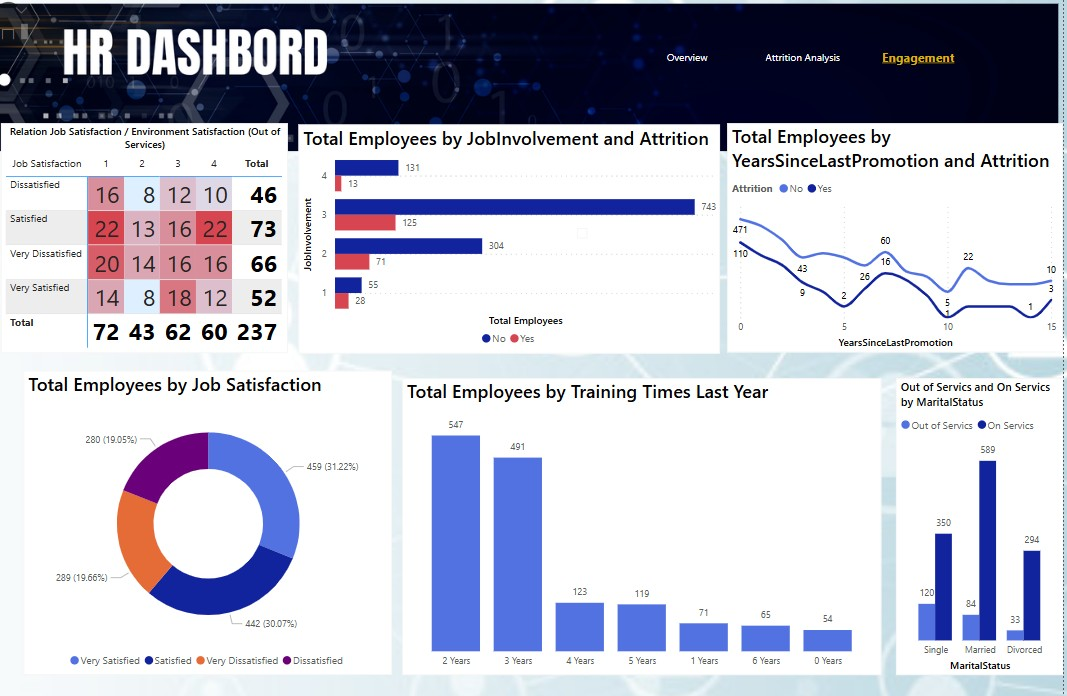

The page's visual inventory and layout, read from the dashboard file:
{"tool":"powerbi","page":{"name":"Engagement","canvas":[1280,850],"ordinal":2},"visuals":[{"type":"actionButton","box":[0,0,100,40],"z":0},{"type":"image","box":[0,0,1279.8,191.7],"z":1000},{"type":"pivotTable","title":"Relation Job Satisfaction / Environment Satisfaction (Out of Services)","fields":{"Rows":["HR Data.Job Satisfaction"],"Columns":["HR Data.EnvironmentSatisfaction"],"Values":["Measures Table.Out of Servics"]},"box":[12.2,151.1,342.2,274.4],"z":2000},{"type":"clusteredBarChart","fields":{"Y":["Measures Table.Total Employees"],"Category":["HR Data.JobInvolvement"],"Series":["HR Data.Attrition"]},"box":[366.7,152.2,503.3,273.3],"z":3000},{"type":"lineChart","fields":{"Category":["HR Data.YearsSinceLastPromotion"],"Y":["Measures Table.Total Employees"],"Series":["HR Data.Attrition"]},"box":[878.9,151.1,401.1,273.3],"z":4000},{"type":"columnChart","title":"Total Employees by Training Times Last Year","fields":{"Y":["Measures Table.Total Employees"],"Category":["HR Data.Training"]},"box":[491.1,455.6,572.2,354.4],"z":5000},{"type":"slicer","fields":{"Values":["HR Data.Attrition"]},"box":[0,0,49.2,55.7],"z":6000},{"type":"histogram7D0E580F1FEB4DDA901A6D8146EA6387","box":[700,275.6,12.2,12.2],"z":7000},{"type":"clusteredColumnChart","fields":{"Y":["Measures Table.Out of Servics","Measures Table.On Servics"],"Category":["HR Data.MaritalStatus"]},"box":[1080,455.6,200,354.4],"z":8000},{"type":"donutChart","fields":{"Y":["Measures Table.Total Employees"],"Category":["HR Data.Job Satisfaction"]},"box":[38.9,446.7,440,363.3],"z":9000},{"type":"pageNavigator","box":[766.7,45.6,405.6,50],"z":10000}]}

Visuals, with their boxes in screenshot pixels (x1, y1, x2, y2), scaled from the page's 1280x850 canvas onto the 1067x696 screenshot:
actionButton: (0,0,83,33)
image: (0,0,1066,157)
"Relation Job Satisfaction / Environment Satisfaction (Out of Services)" pivotTable: (10,124,295,348)
clusteredBarChart - Measures Table.Total Employees x HR Data.JobInvolvement: (306,125,725,348)
lineChart - HR Data.YearsSinceLastPromotion x Measures Table.Total Employees: (733,124,1066,348)
"Total Employees by Training Times Last Year" columnChart: (409,373,886,663)
slicer - HR Data.Attrition: (0,0,41,46)
histogram7D0E580F1FEB4DDA901A6D8146EA6387: (584,226,594,236)
clusteredColumnChart - Measures Table.Out of Servics x Measures Table.On Servics: (900,373,1066,663)
donutChart - Measures Table.Total Employees x HR Data.Job Satisfaction: (32,366,399,663)
pageNavigator: (639,37,977,78)
